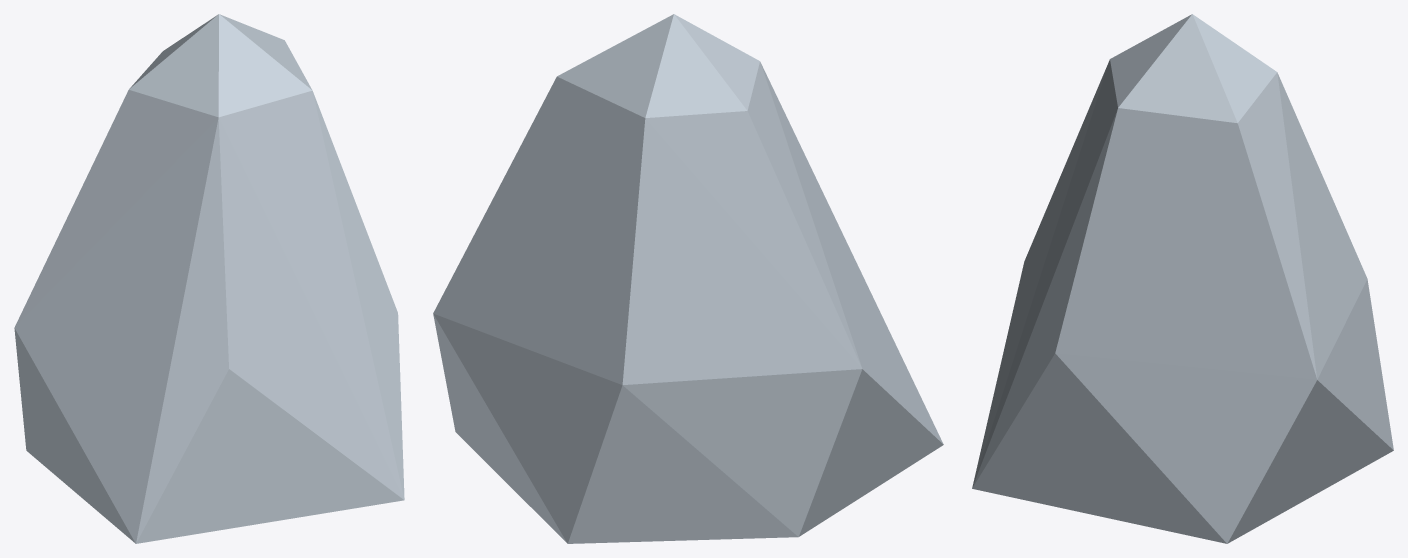
Rendered from crystal_b.glb.
The picture shows the model from 3 angles, left to right: view 1: azimuth 30°, elevation 25°; view 2: azimuth 150°, elevation 25°; view 3: azimuth 270°, elevation 25°; orthographic projection. The views are drawn at different scales.
Parts seen in each view (by area): view 1: CrystalB; view 2: CrystalB; view 3: CrystalB.
Part boxes in pixels (<box>): CrystalB: <box>14,14,404,543</box>; CrystalB: <box>433,14,943,543</box>; CrystalB: <box>972,14,1393,543</box>.
Size of the model in its own units: 0.9308 by 1 by 0.877.
